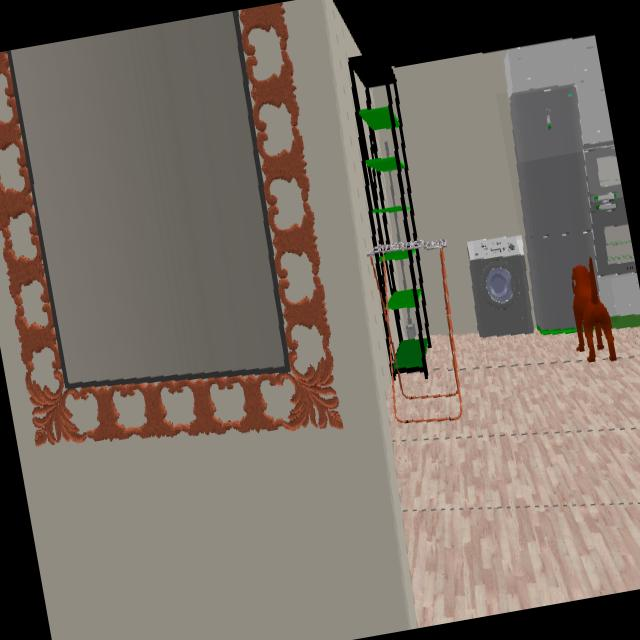cabinet: (502, 35, 614, 149)
fridge: (510, 83, 594, 334)
microwave: (585, 144, 623, 203)
oven: (591, 201, 637, 277)
shelf: (348, 56, 431, 376)
